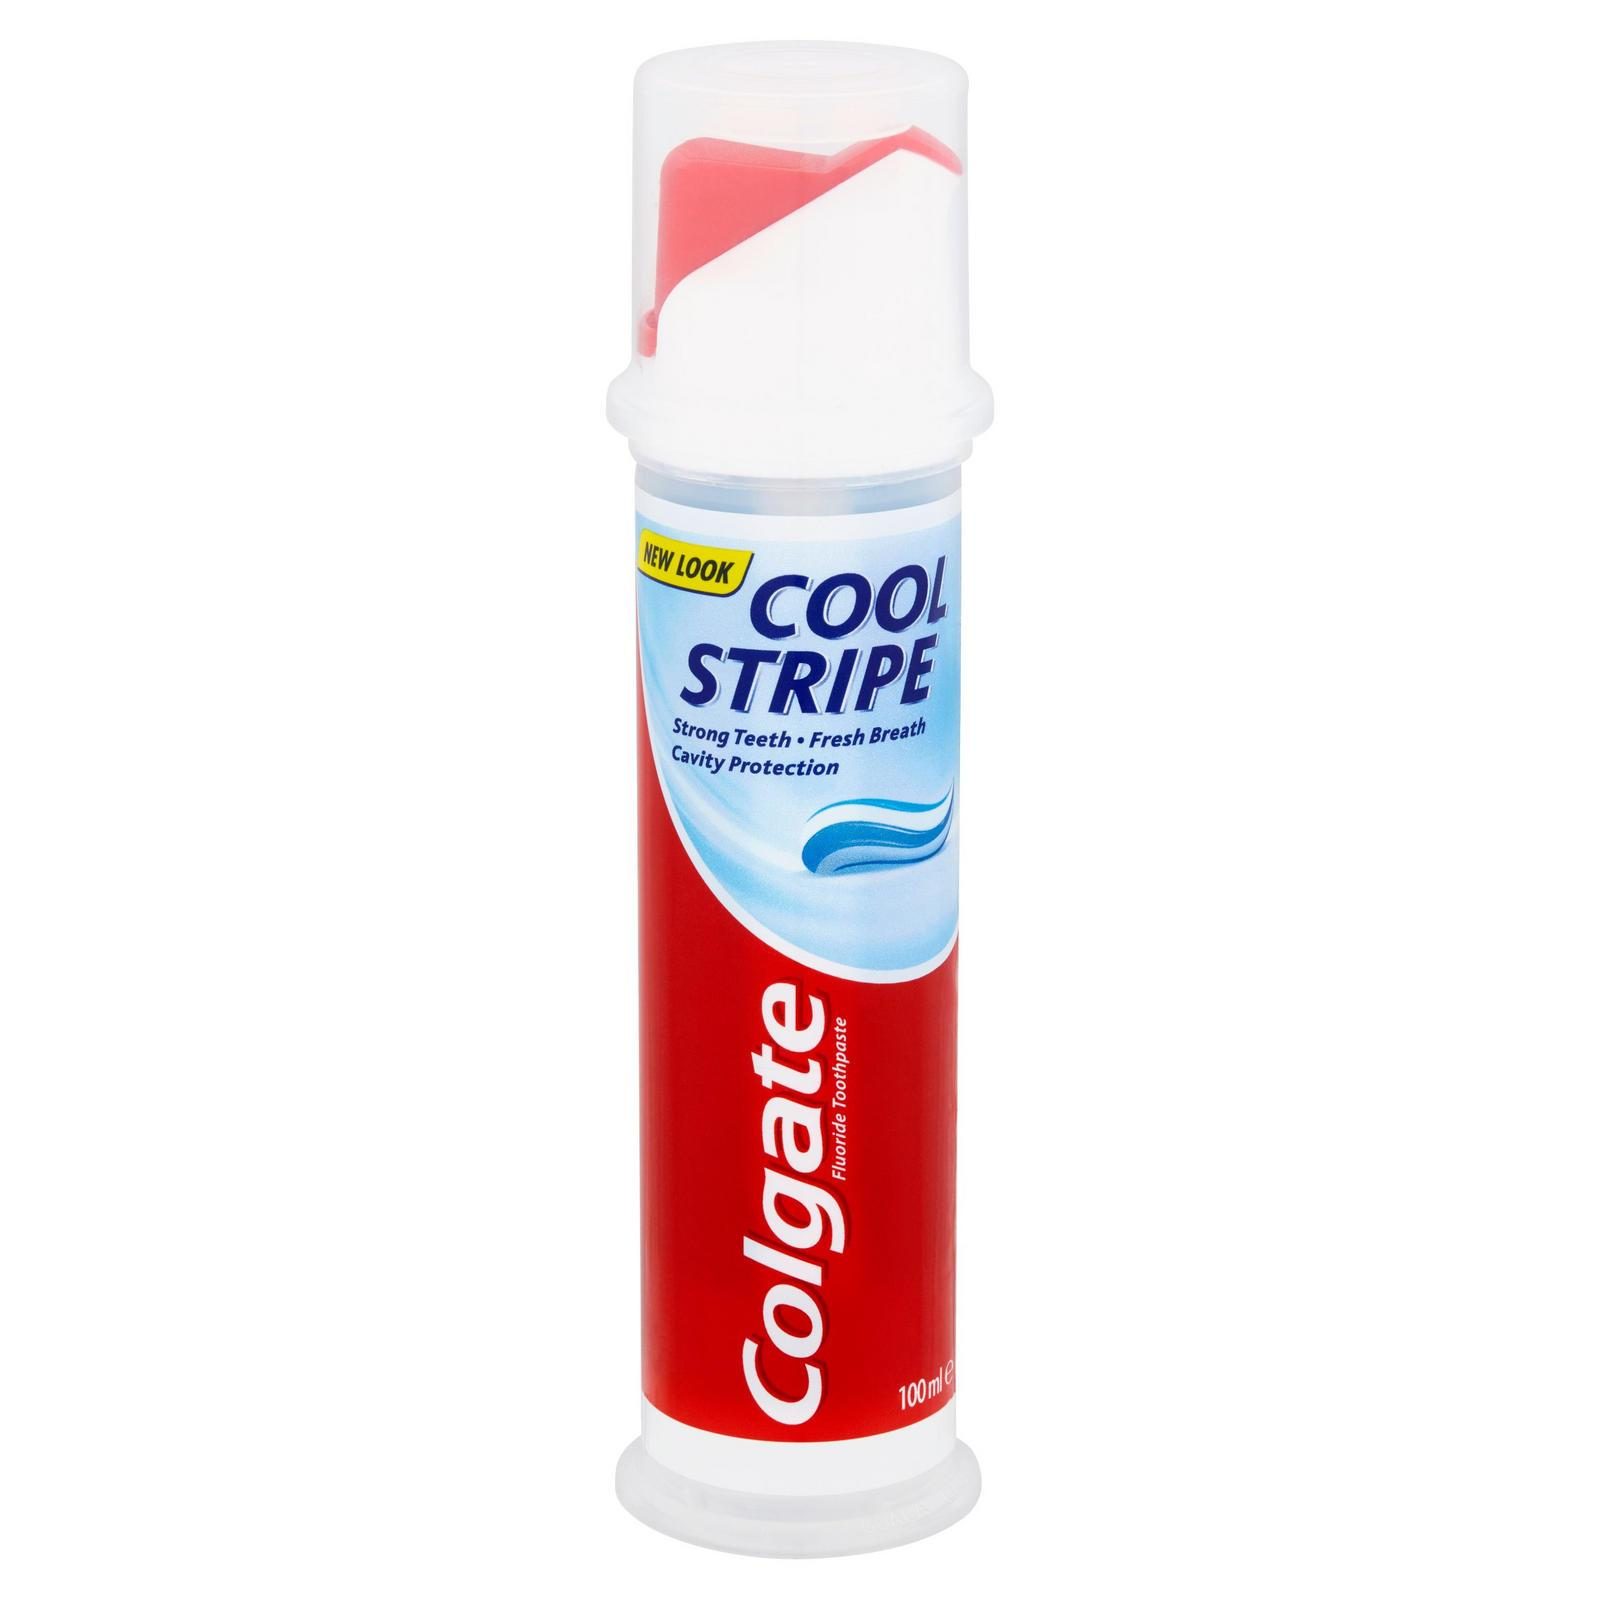toothpaste: (588, 28, 1071, 1541)
